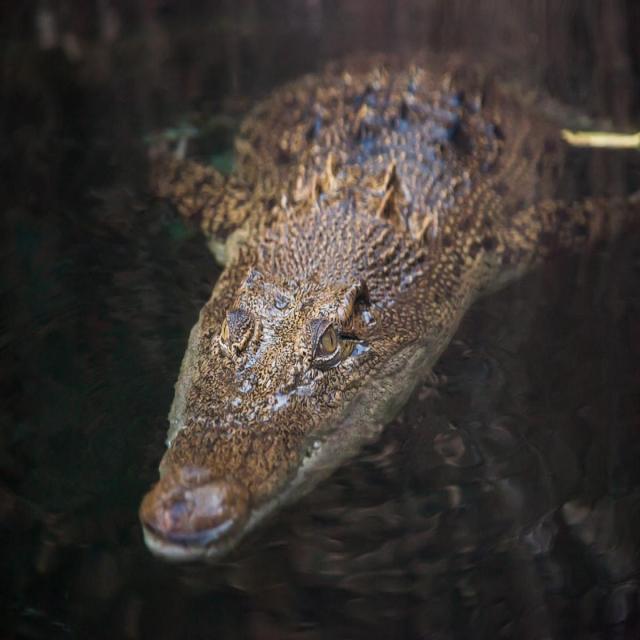crocodile: (104, 11, 639, 569)
